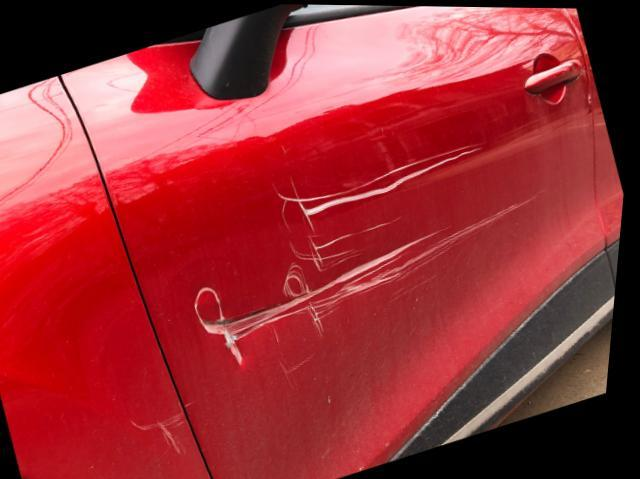scratch: (192, 129, 549, 372), (133, 410, 196, 457)
